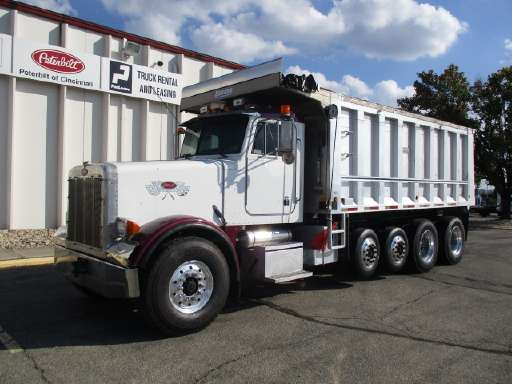truck: (56, 53, 477, 335)
